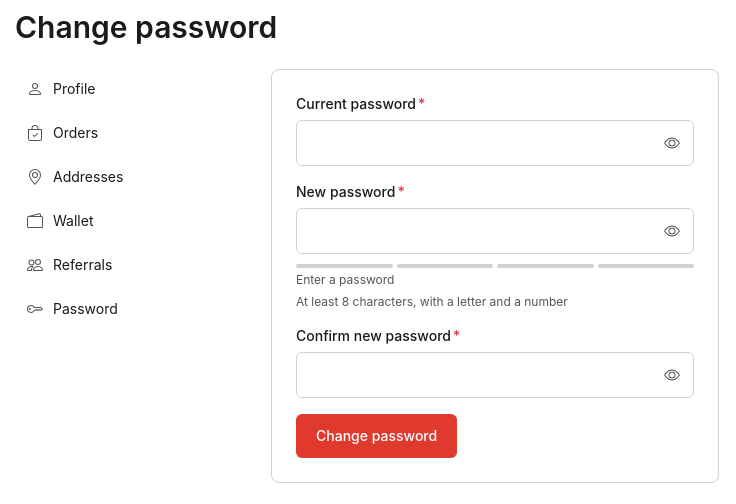
Test: ChangePasswordPage › refuses a change to the same password
Type "samepassword1" into the password field labelled "Current password". click: (495, 143)
box: [296,120,694,166]
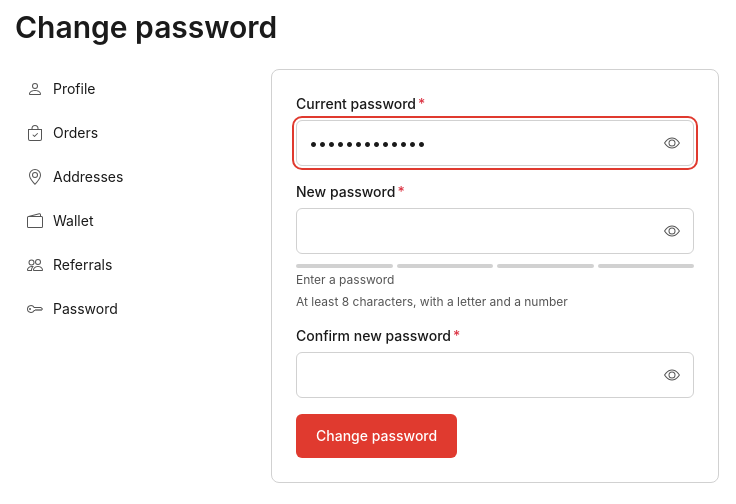
Type "samepassword1" into the password field labelled "New password". click: (495, 231)
box: [296,208,694,254]
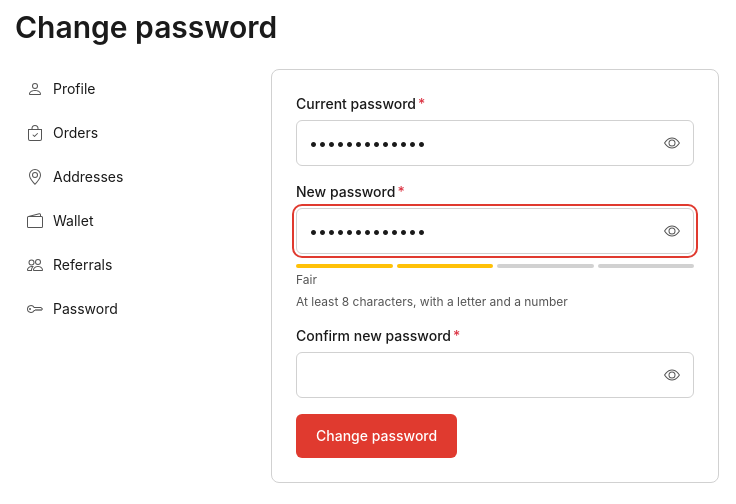
Type "samepassword1" into the password field labelled "Confirm new password". click: (495, 375)
box: [296,352,694,398]
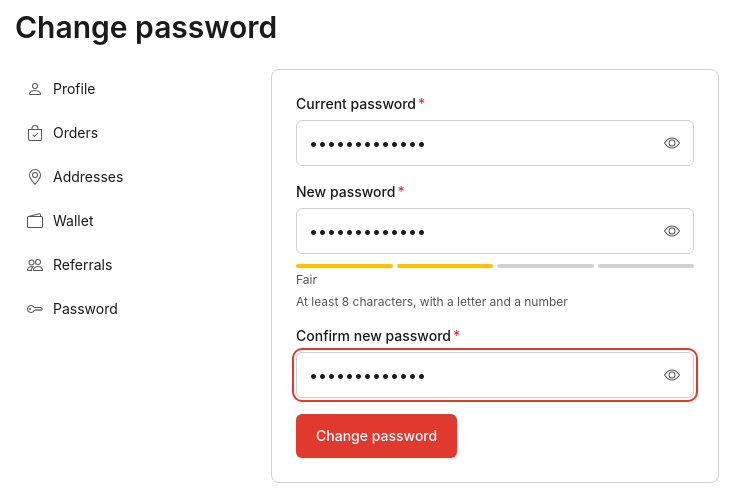
Click the button "Change password". click: (377, 436)
box: [296,414,457,458]
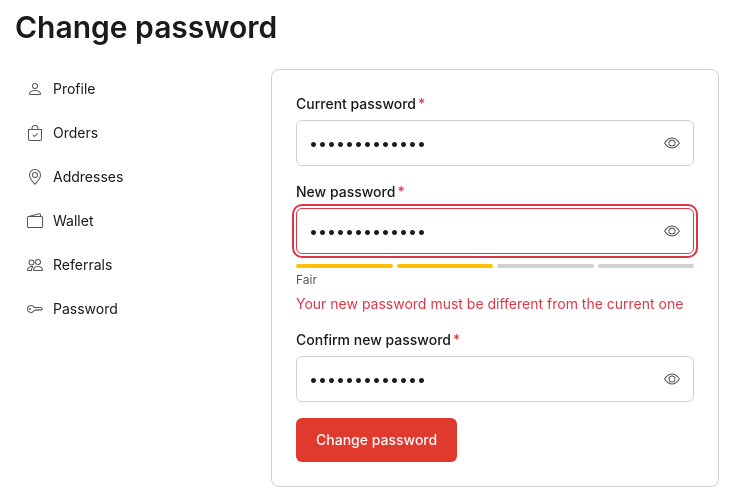
Check: the text "Your new password must be different from the current one" is shown, box [296,294,694,314]
